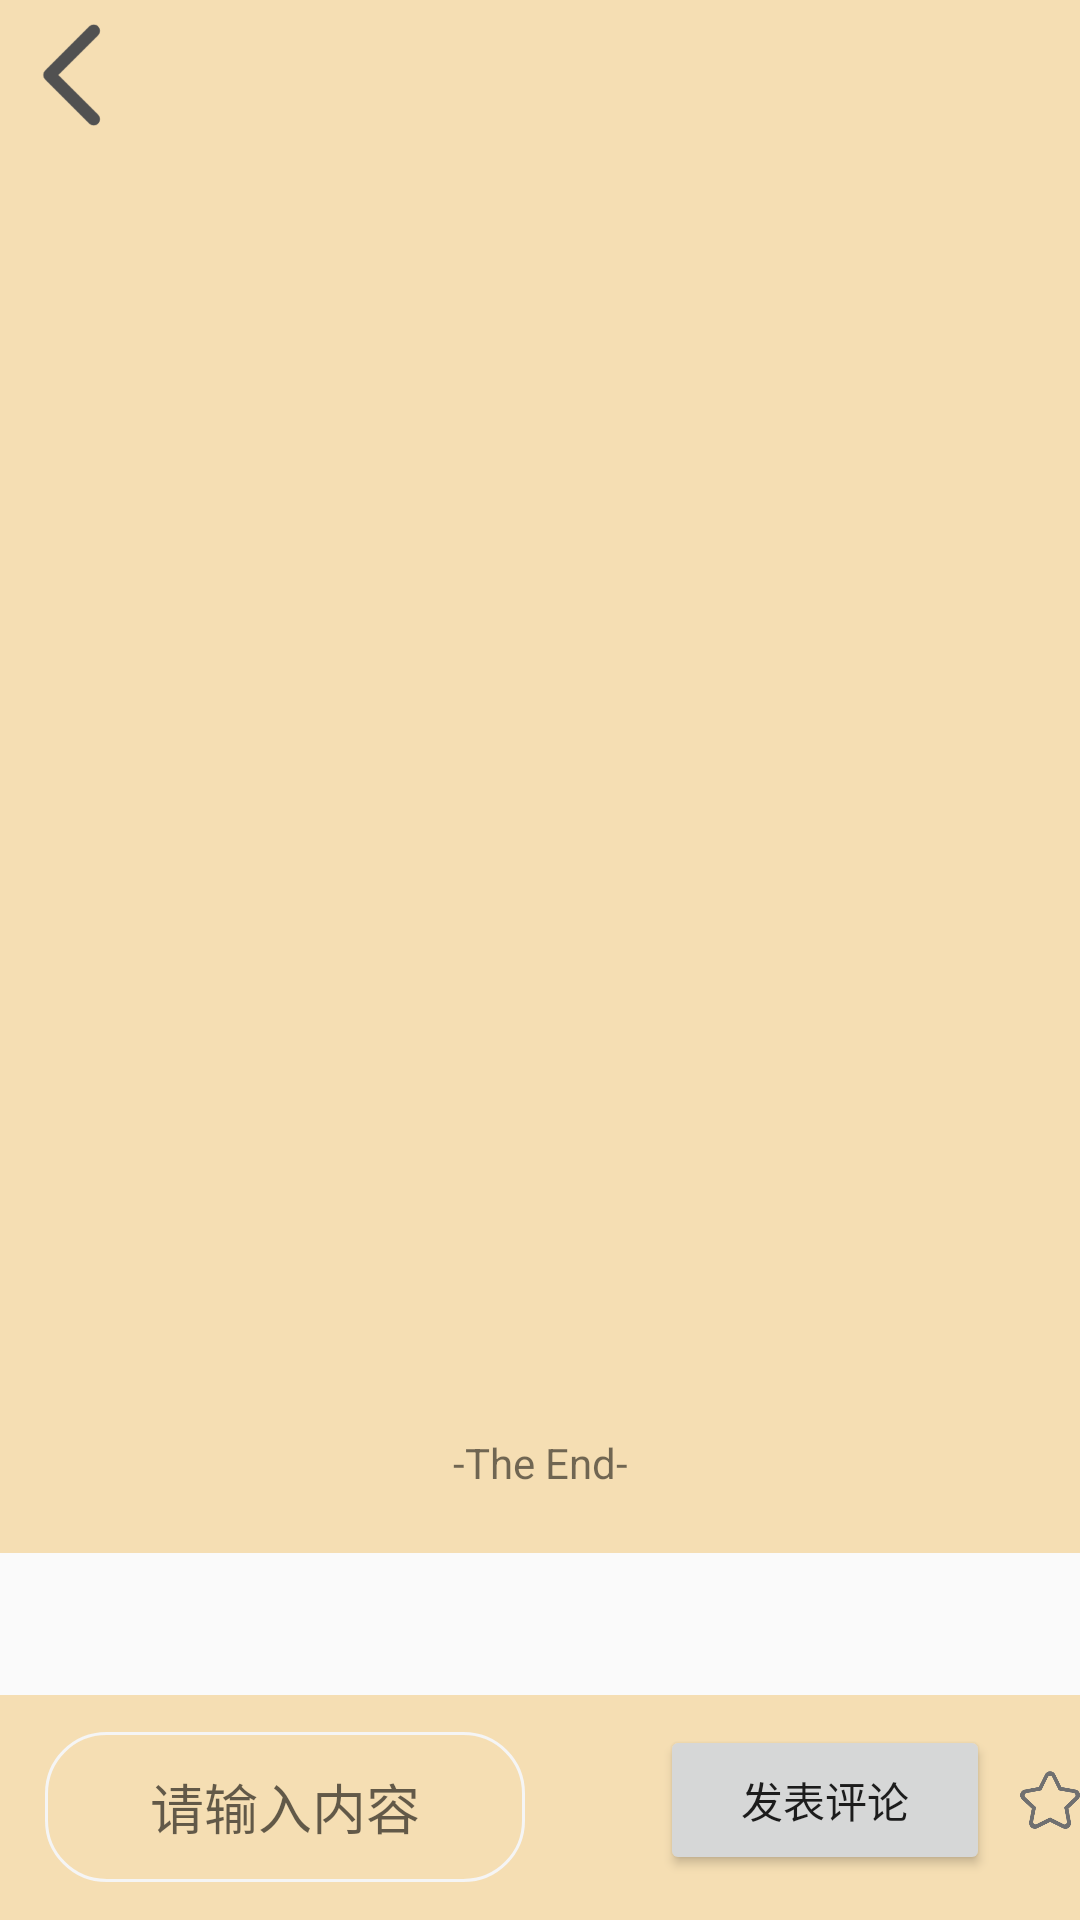

Icon bounding boxes for this 1080 × 1920 phone screenshot, format box(x1, y1, x2, y2):
home back: box(43, 24, 100, 126)
shouchang: box(1020, 1771, 1080, 1829)
